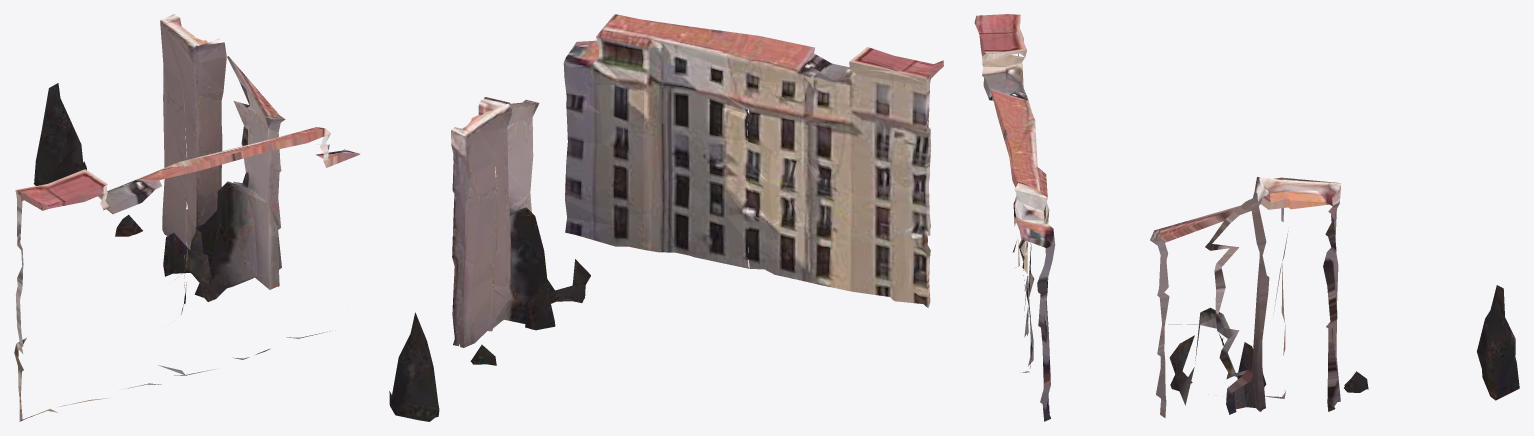
3 renders of one model, left to right at view 1: azimuth 30°, elevation 25°; view 2: azimuth 150°, elevation 25°; view 3: azimuth 270°, elevation 25°, orthographic. The views are drawn at different scales.
Visible parts, largest first — view 1: Mesh_0; view 2: Mesh_0; view 3: Mesh_0.
Part boxes in pixels (x1=…): Mesh_0: x1=14, y1=14, x2=359, y2=421; Mesh_0: x1=389, y1=14, x2=943, y2=421; Mesh_0: x1=974, y1=14, x2=1519, y2=421.
Size of the model in its own units: 29.41 by 18.91 by 38.99.
1 material, 1 textured.
